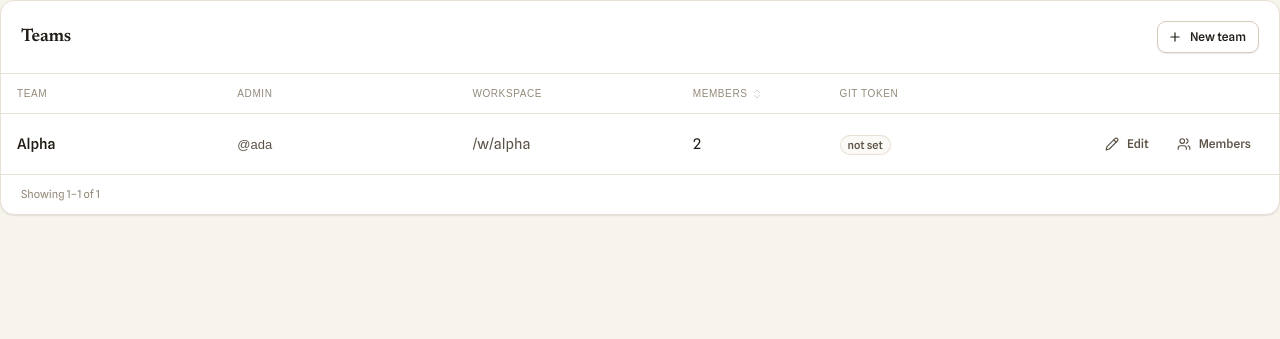
Scenario: TeamsPanel › surfaces the server error when Make admin fails, instead of failing silently [QA]
Click the button "Members" in the row of "ada". click: (1215, 144)
box: x1=1167 y1=128 x2=1263 y2=160
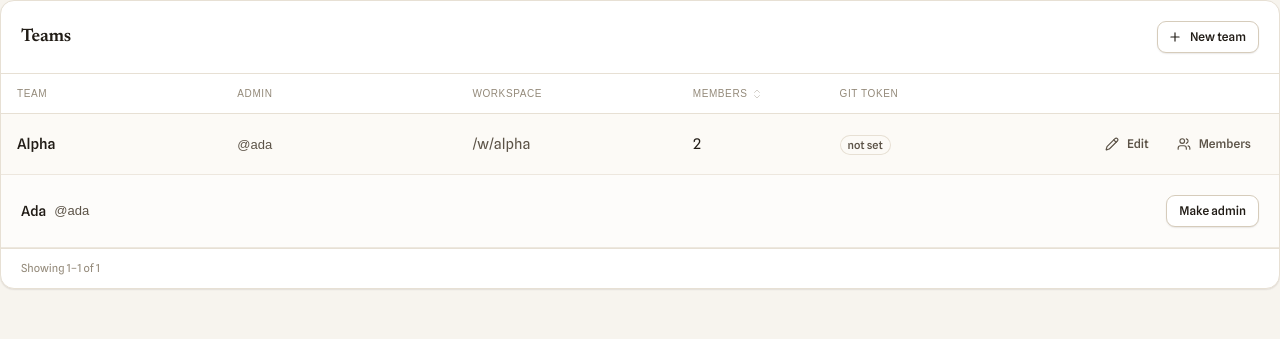
Check: the text "Ada" is shown, box x1=21 y1=201 x2=46 y2=221
Click the button "Make admin". click: (1213, 211)
box: x1=1166 y1=195 x2=1259 y2=227
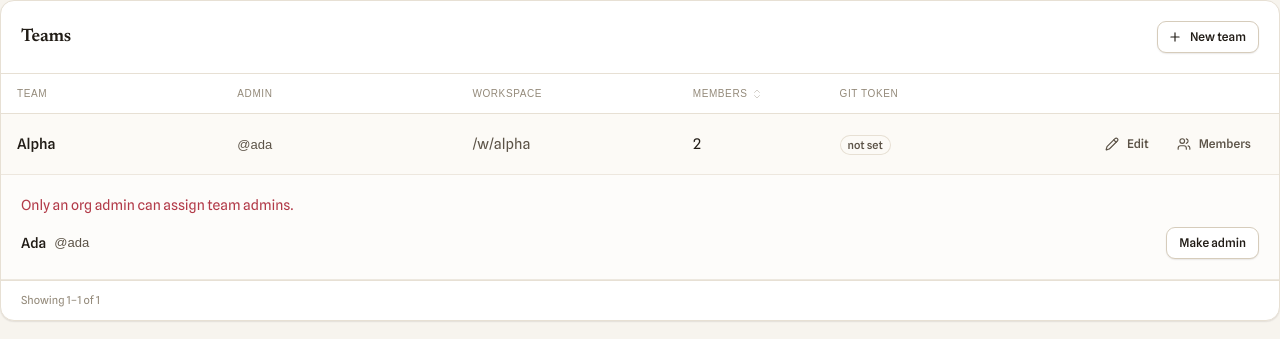
Check: the message reads "Only an org admin can assign team admins.", box x1=21 y1=197 x2=293 y2=213
